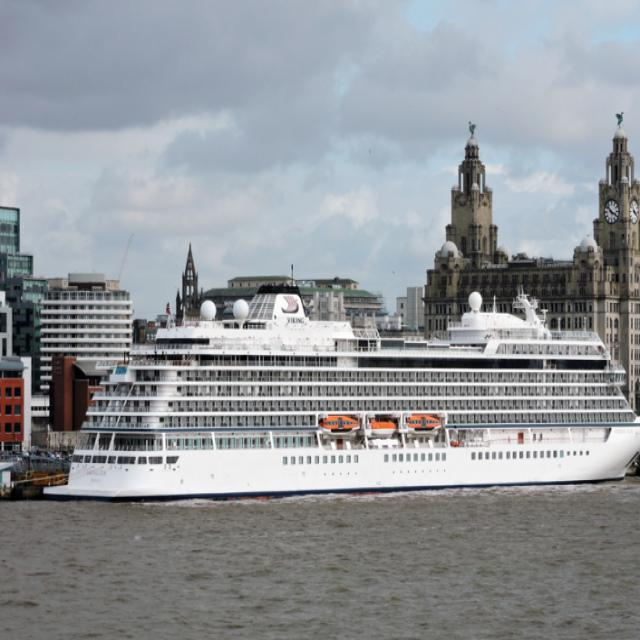cruises: (36, 284, 640, 513)
